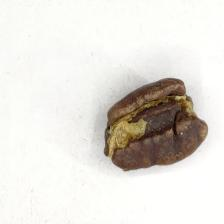NG: (105, 85, 209, 169)
